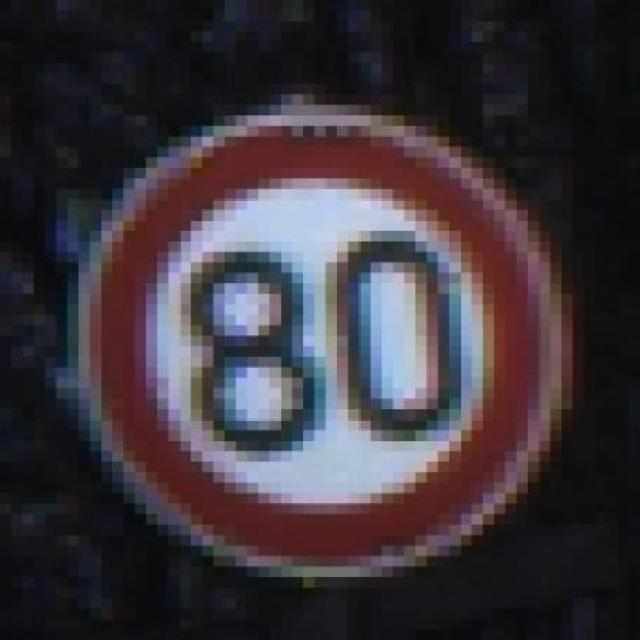forb_speed_over_80: (83, 115, 560, 573)
